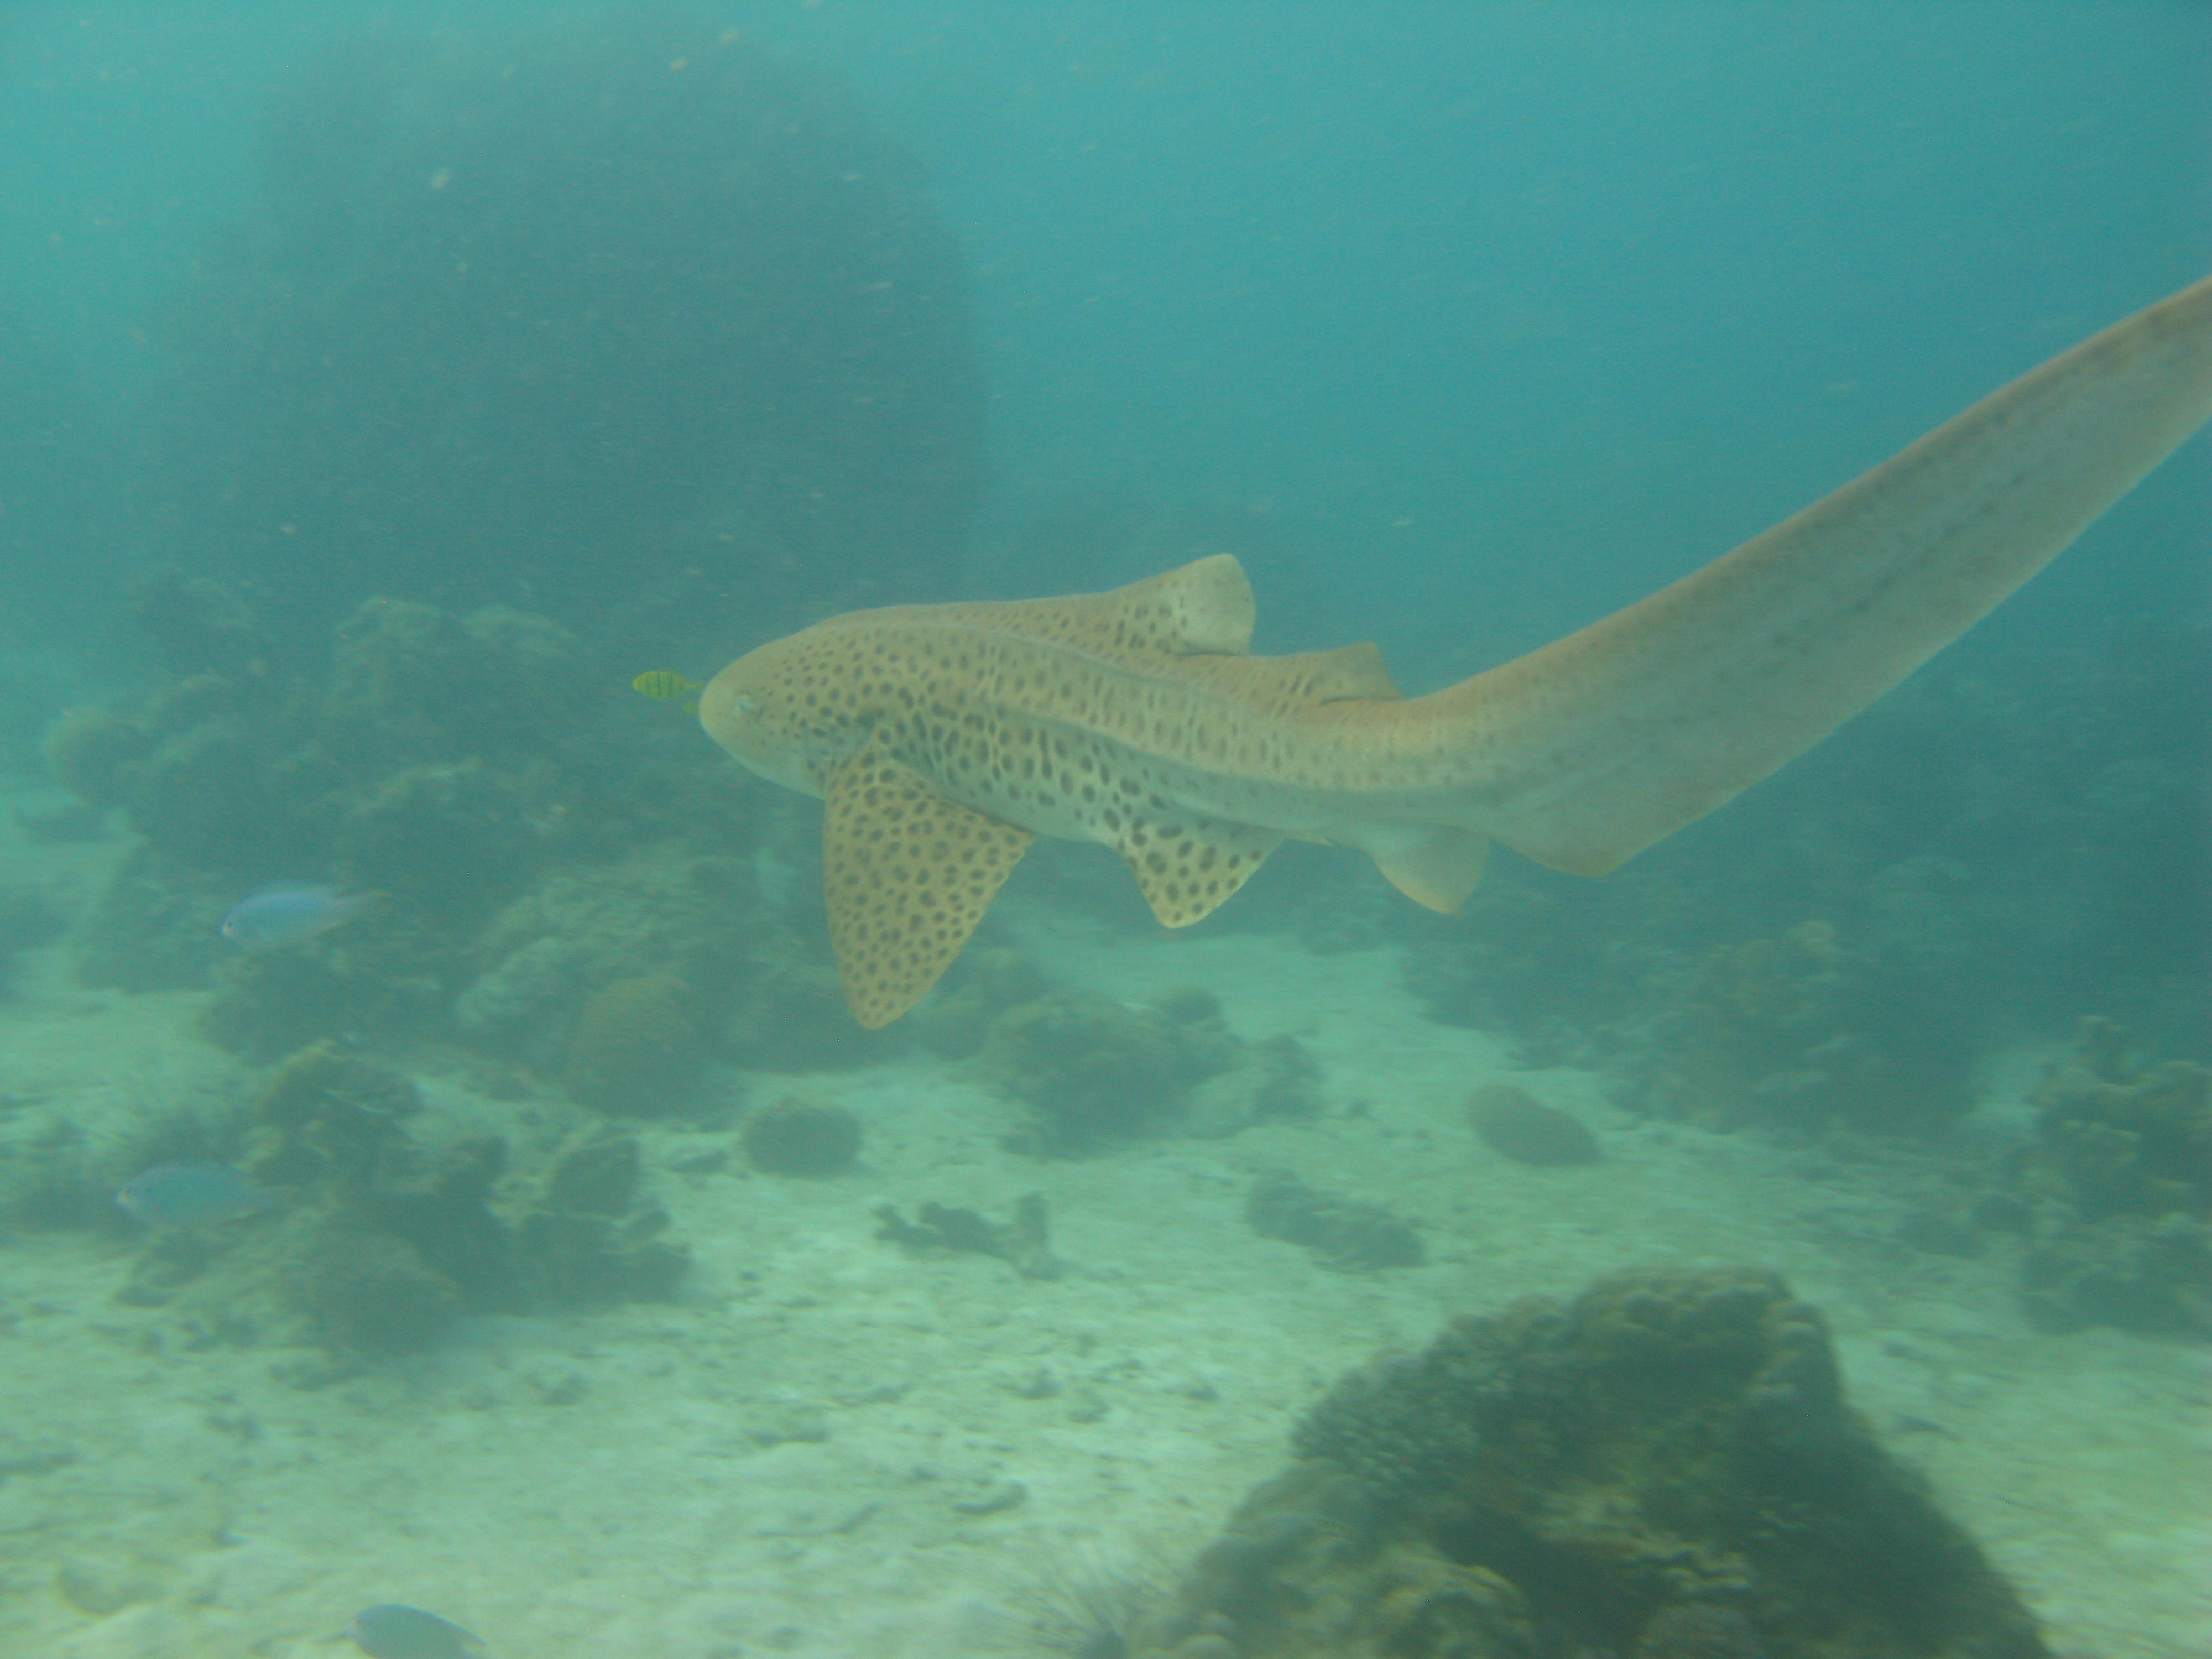Fish: (639, 260, 2212, 1033)
